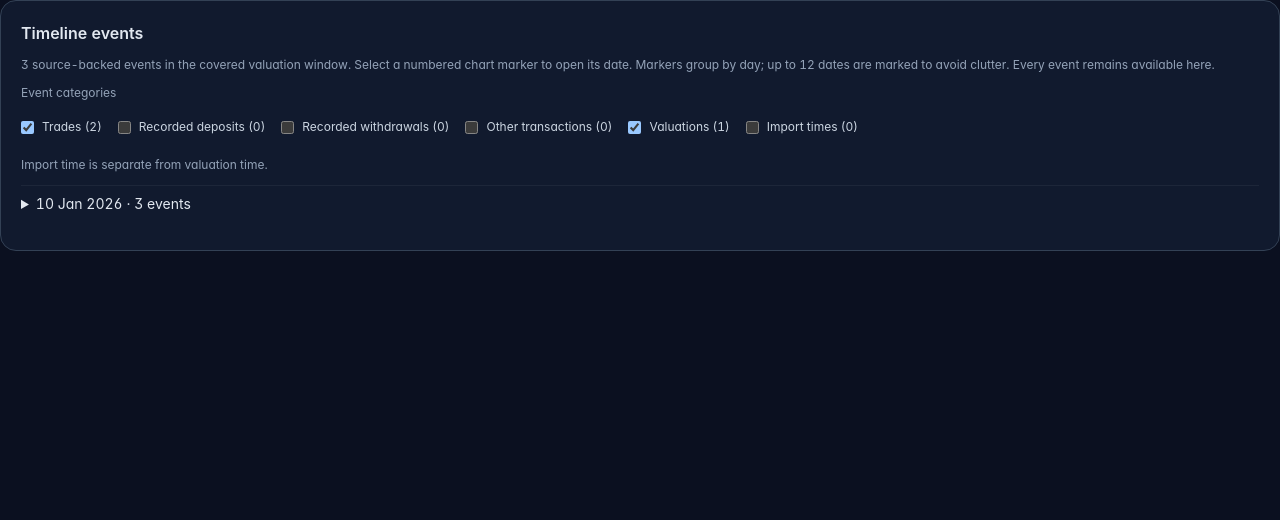
groups same-day records, toggles categories and preserves context in source links
Click the heading "10 Jan 2026 · 3 events" at (113, 204), box [36,195,191,212]
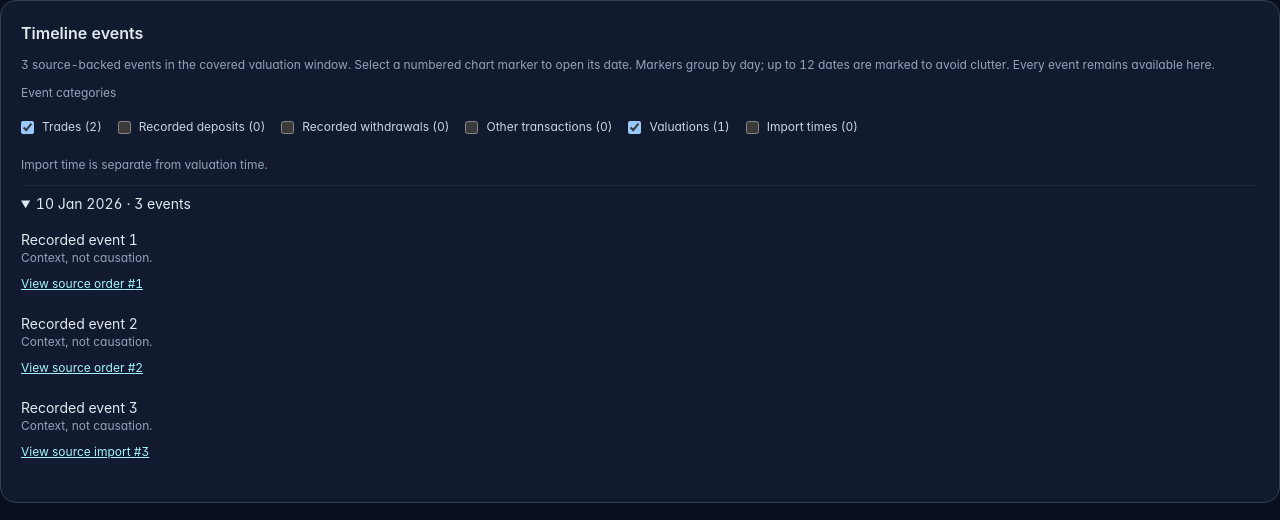
Expected: the number of links is 3, [21,276,143,291]; [21,360,143,375]; [21,444,149,459]
Click the checkbox labelled "Trades (2)" at (28, 127), box [21,120,34,134]
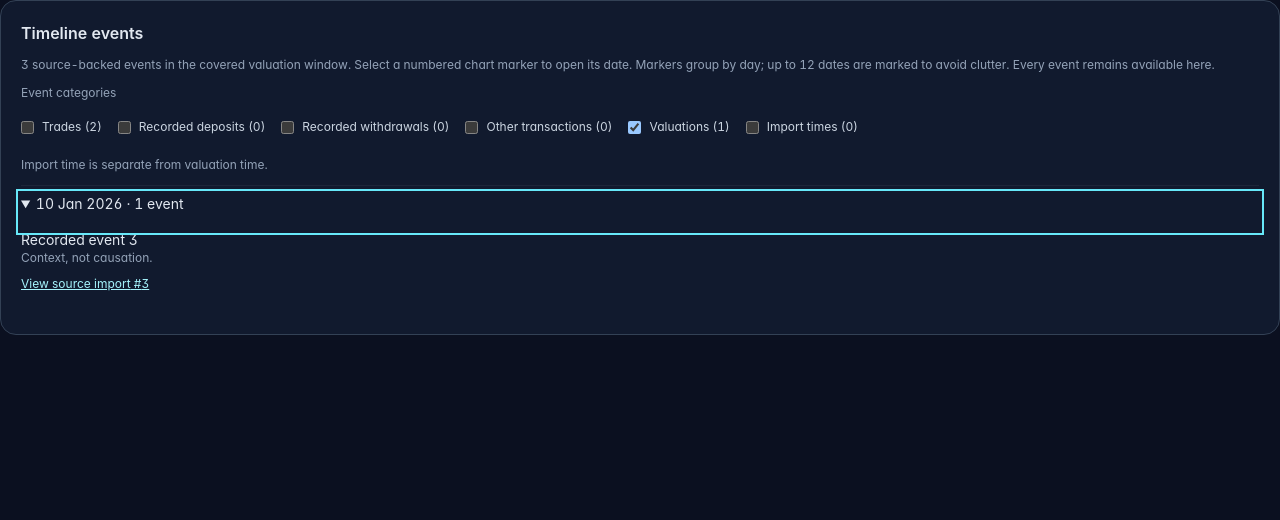
Expected: the heading "10 Jan 2026 · 1 event" is shown, [36,195,184,212]
Expected: the number of links is 1, [21,276,149,291]
